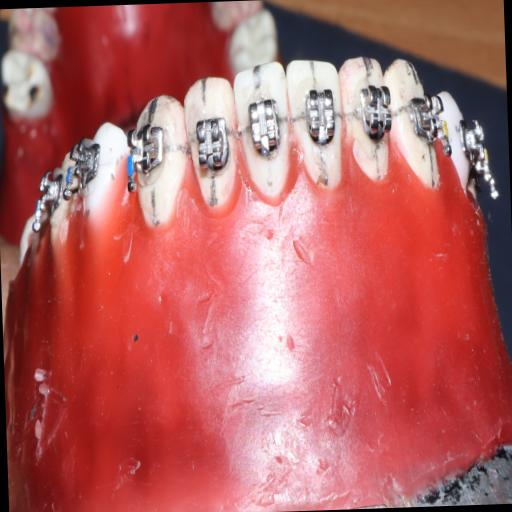correct_brace: (190, 109, 233, 178), (243, 92, 284, 160), (299, 83, 337, 147)
incorrect_brace: (180, 67, 242, 220)
